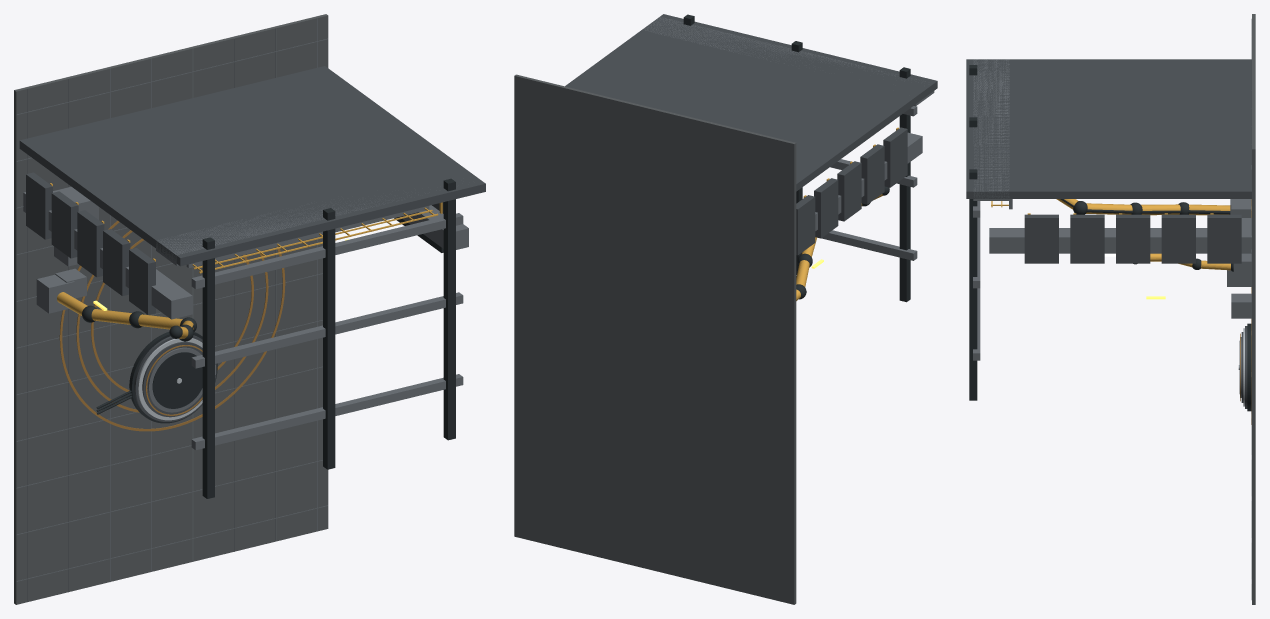
The model's file is hangar.glb.
The picture shows the model from 3 angles, left to right: view 1: azimuth 30°, elevation 25°; view 2: azimuth 150°, elevation 25°; view 3: azimuth 270°, elevation 25°; orthographic projection. The views are drawn at different scales.
Parts seen in each view (by area): view 1: ENV_Floor_Main, ENV_BackWall, CeilingBeam_0, CeilingBeam_5.4, CeilingBeam_-5.4, CeilingCross_4.0, CeilingCross_0.5, CeilingCross_7.4, ENV_UpperBand, ENV_Platform_CenterPlate, ENV_Column_-1, SidePanel_-1_3.2 (+14 smaller); view 2: ENV_Floor_Main, ENV_BackWall, ENV_UpperBand, CeilingBeam_-5.4, SidePanel_-1_3.2, SidePanel_-1_5.2, SidePanel_-1_7.2, SidePanel_-1_9.2, SidePanel_-1_1.2, CeilingCross_0.5, ENV_Column_-1; view 3: ENV_BackWall, ENV_UpperBand, ENV_Column_1, ENV_Floor_Main, SidePanel_1_1.2, SidePanel_1_7.2, SidePanel_1_3.2, SidePanel_1_5.2, SidePanel_1_9.2, CeilingBeam_5.4, Machinery_1_2, RightArm_Base (+2 smaller).
Part boxes in pixels (left/top/right/bottom): ENV_Floor_Main: left=14, top=14, right=328, bottom=604; ENV_BackWall: left=19, top=66, right=485, bottom=266; CeilingBeam_0: left=323, top=208, right=335, bottom=469; CeilingBeam_5.4: left=443, top=178, right=455, bottom=440; CeilingBeam_-5.4: left=202, top=237, right=214, bottom=498; CeilingCross_4.0: left=191, top=292, right=463, bottom=368; CeilingCross_0.5: left=191, top=374, right=463, bottom=450; CeilingCross_7.4: left=191, top=213, right=463, bottom=289; ENV_UpperBand: left=156, top=190, right=436, bottom=265; ENV_Platform_CenterPlate: left=152, top=352, right=202, bottom=408; ENV_Column_-1: left=23, top=192, right=192, bottom=319; SidePanel_-1_3.2: left=51, top=191, right=78, bottom=258; ENV_Floor_Main: left=514, top=74, right=796, bottom=604; ENV_BackWall: left=565, top=14, right=937, bottom=191; ENV_UpperBand: left=642, top=16, right=934, bottom=106; CeilingBeam_-5.4: left=899, top=67, right=910, bottom=302; SidePanel_-1_3.2: left=814, top=178, right=838, bottom=238; SidePanel_-1_5.2: left=837, top=161, right=861, bottom=221; SidePanel_-1_7.2: left=860, top=144, right=884, bottom=204; SidePanel_-1_9.2: left=883, top=127, right=907, bottom=187; SidePanel_-1_1.2: left=796, top=195, right=815, bottom=255; CeilingCross_0.5: left=821, top=230, right=917, bottom=260; ENV_Column_-1: left=815, top=132, right=922, bottom=230; ENV_BackWall: left=966, top=59, right=1251, bottom=198; ENV_UpperBand: left=973, top=59, right=1009, bottom=200; ENV_Column_1: left=989, top=228, right=1251, bottom=253; ENV_Floor_Main: left=1252, top=14, right=1255, bottom=604; SidePanel_1_1.2: left=1207, top=214, right=1241, bottom=263; SidePanel_1_7.2: left=1070, top=214, right=1104, bottom=263; SidePanel_1_3.2: left=1161, top=214, right=1195, bottom=263; SidePanel_1_5.2: left=1116, top=214, right=1150, bottom=263; SidePanel_1_9.2: left=1024, top=214, right=1058, bottom=263; CeilingBeam_5.4: left=969, top=169, right=977, bottom=400; Machinery_1_2: left=1231, top=293, right=1251, bottom=318; RightArm_Base: left=1233, top=253, right=1251, bottom=280.
Size of the model in its own units: 14 by 22 by 12.66.
